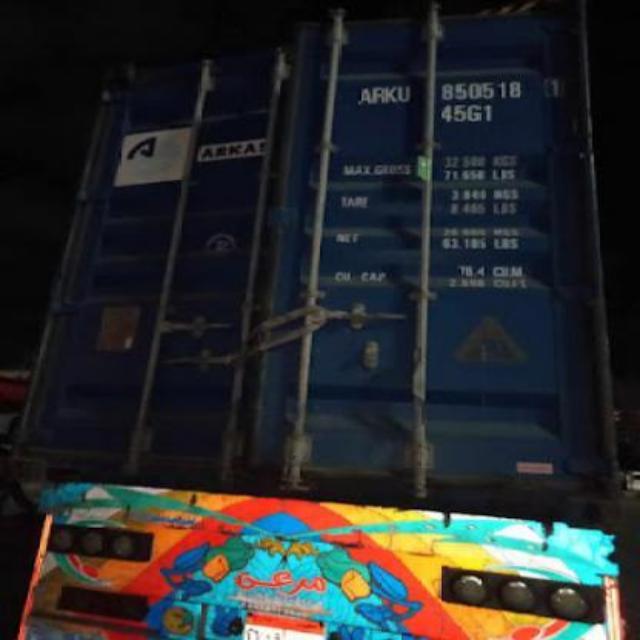0: (468, 81, 482, 101)
1: (498, 79, 508, 99)
5: (480, 81, 500, 101), (456, 83, 468, 101)
8: (508, 80, 524, 104), (440, 82, 456, 102)
A: (356, 87, 372, 107)
K: (384, 85, 398, 105)
R: (372, 85, 384, 105)
U: (398, 84, 412, 104)
